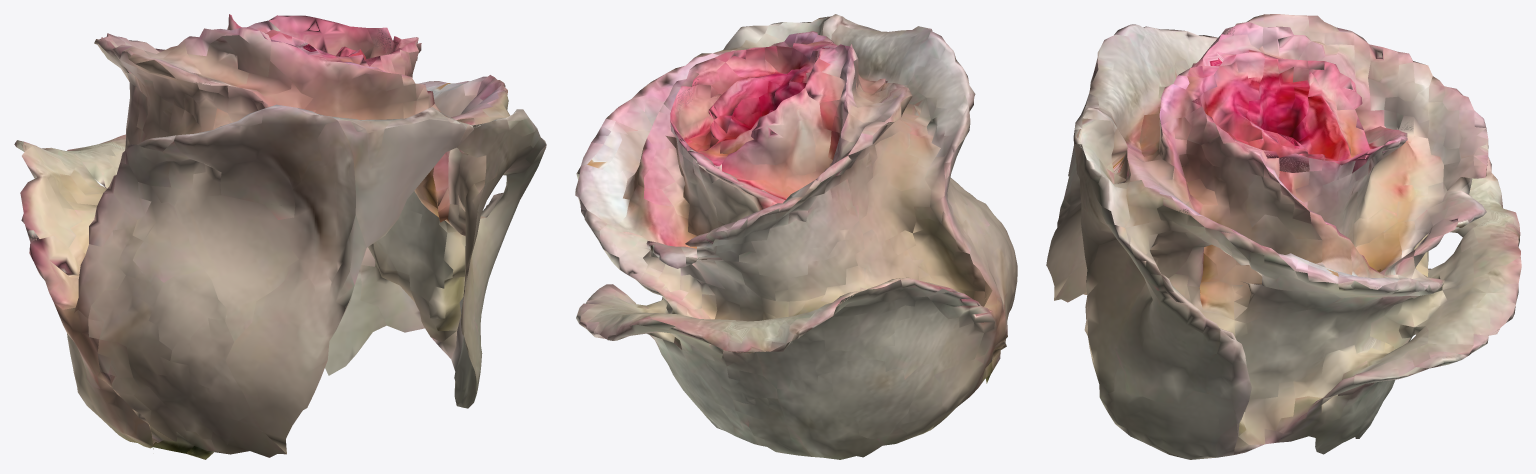
3 renders of one model, left to right at view 1: azimuth 30°, elevation 25°; view 2: azimuth 150°, elevation 25°; view 3: azimuth 270°, elevation 25°, orthographic. The views are drawn at different scales.
Parts seen in each view (by area): view 1: 60514b3b; view 2: 60514b3b; view 3: 60514b3b.
Boxes of the visible parts, x1=… form: 60514b3b: x1=14, y1=14, x2=546, y2=459; 60514b3b: x1=575, y1=14, x2=1017, y2=459; 60514b3b: x1=1046, y1=14, x2=1521, y2=459.
Bounding box in the file's own units: 0.0758 × 0.0674 × 0.0768.
Materials: 1 (1 with a texture image).
